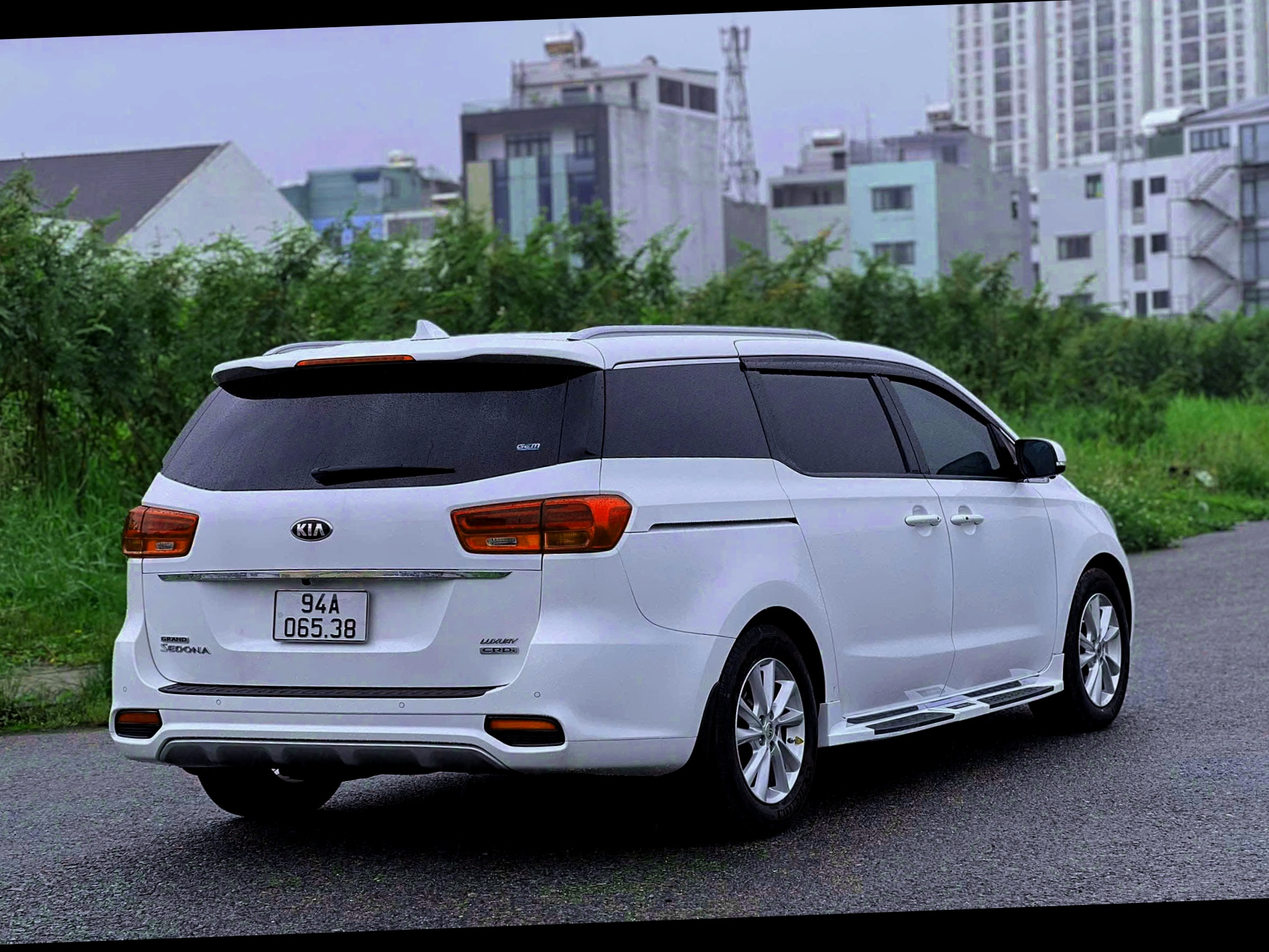Bien-so: (262, 578, 377, 654)
